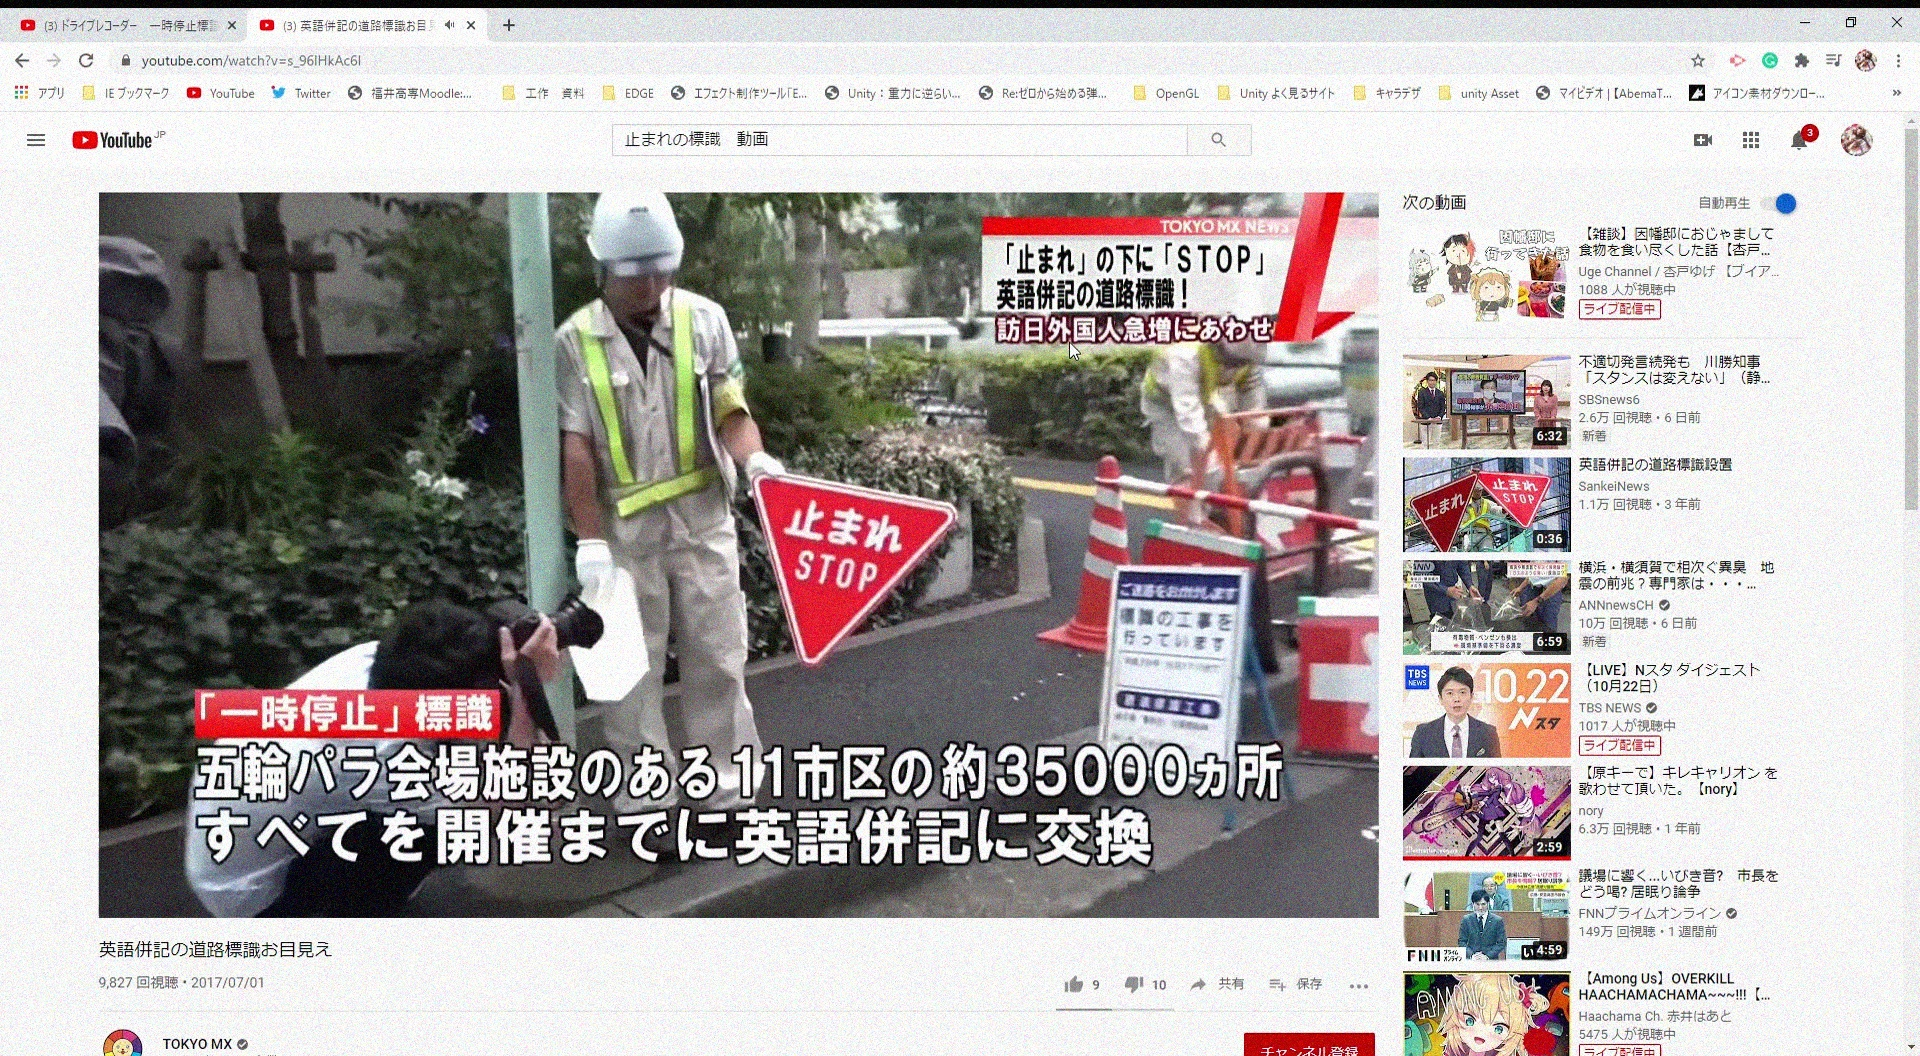Regulatory_sign_triangle: (732, 450, 968, 668)
